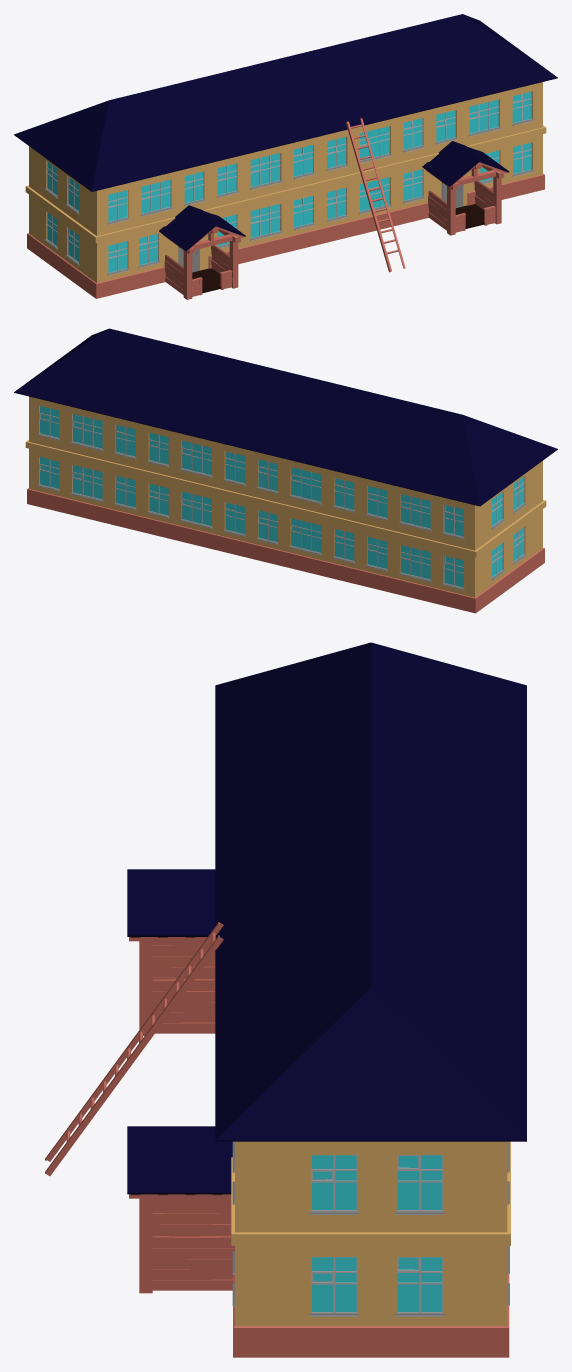
File: Apartment_Building_1.fbx
3 views of the same model, one above another, from view 1: azimuth 30°, elevation 25°; view 2: azimuth 150°, elevation 25°; view 3: azimuth 270°, elevation 25° (orthographic). The views are drawn at different scales.
Visible parts, largest first — view 1: Case_Apartament_Building_1, Porch_1, Porch_2, Cube.001, Ladder, Frame_Window_1.021, Frame_Window_1.020, Frame_Window_1.023, Frame_Window_1.006, Frame_Window_1.022, Frame_Window_1.007, Frame_Window_2.027 (+13 smaller); view 2: Case_Apartament_Building_1, Cube.001, Frame_Window_1.019, Frame_Window_1.008, Frame_Window_1.016, Frame_Window_1.017, Frame_Window_1.003, Frame_Window_1.001, Frame_Window_1.018, Frame_Window_1.002, Frame_Window_2.003, Frame_Window_2.022 (+14 smaller); view 3: Case_Apartament_Building_1, Porch_2, Porch_1, Ladder, Frame_Window_2.030, Frame_Window_2.004, Frame_Window_3.030, Frame_Window_3.004, Cube.001.
Part boxes in pixels (<box>): Case_Apartament_Building_1: <box>14,14,557,298</box>; Porch_1: <box>159,205,245,299</box>; Porch_2: <box>422,141,509,235</box>; Cube.001: <box>44,119,534,275</box>; Ladder: <box>346,118,405,272</box>; Frame_Window_1.021: <box>250,153,280,187</box>; Frame_Window_1.020: <box>141,179,171,214</box>; Frame_Window_1.023: <box>469,99,499,133</box>; Frame_Window_1.006: <box>250,204,280,238</box>; Frame_Window_1.022: <box>360,126,389,160</box>; Frame_Window_1.007: <box>360,177,389,211</box>; Frame_Window_2.027: <box>217,163,237,195</box>; Case_Apartament_Building_1: <box>14,328,557,613</box>; Cube.001: <box>38,433,526,590</box>; Frame_Window_1.019: <box>400,494,430,528</box>; Frame_Window_1.008: <box>72,465,102,499</box>; Frame_Window_1.016: <box>72,414,102,448</box>; Frame_Window_1.017: <box>181,440,211,475</box>; Frame_Window_1.003: <box>400,545,430,579</box>; Frame_Window_1.001: <box>181,491,211,526</box>; Frame_Window_1.018: <box>291,467,321,502</box>; Frame_Window_1.002: <box>291,518,321,552</box>; Frame_Window_2.003: <box>367,537,387,569</box>; Frame_Window_2.022: <box>39,406,59,438</box>; Case_Apartament_Building_1: <box>215,642,526,1357</box>; Porch_2: <box>127,1126,234,1293</box>; Porch_1: <box>127,869,215,1035</box>; Ladder: <box>45,922,223,1176</box>; Frame_Window_2.030: <box>311,1257,357,1312</box>; Frame_Window_2.004: <box>311,1155,357,1210</box>; Frame_Window_3.030: <box>397,1257,443,1312</box>; Frame_Window_3.004: <box>397,1155,443,1210</box>; Cube.001: <box>232,1141,509,1316</box>.
Bounding box in the file's own units: 13.23 × 4.4 × 5.92.
